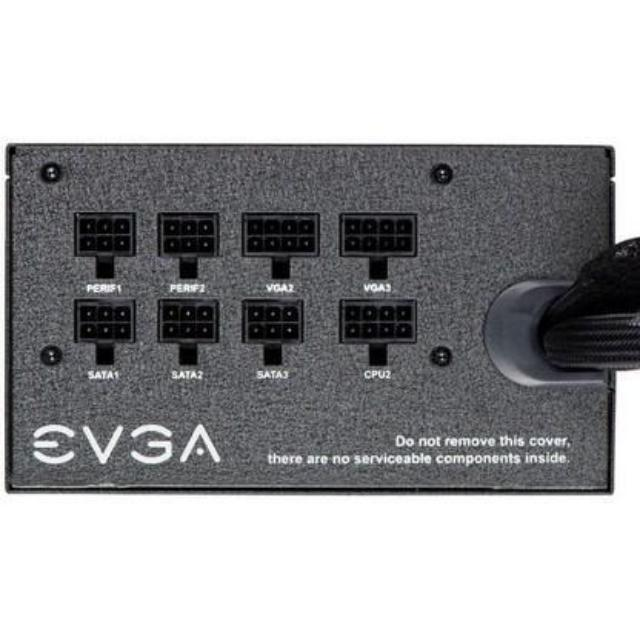PSU: (6, 139, 620, 493)
